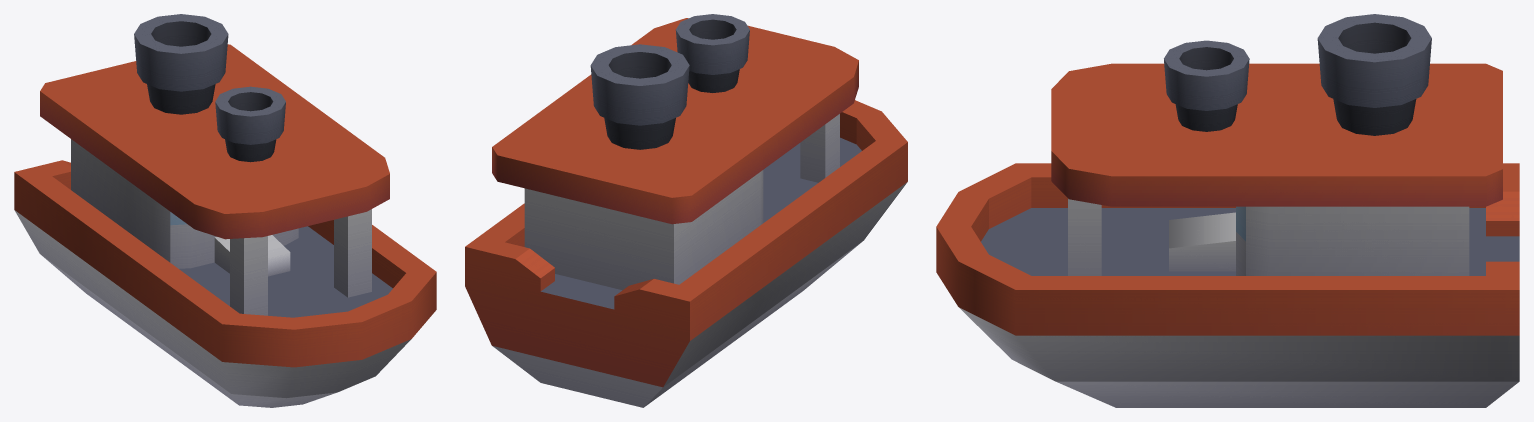
The model's file is boat_tug_a.glb.
The picture shows the model from 3 angles, left to right: view 1: azimuth 30°, elevation 25°; view 2: azimuth 150°, elevation 25°; view 3: azimuth 270°, elevation 25°; orthographic projection. The views are drawn at different scales.
Visible parts, largest first — view 1: boat-tug-a; view 2: boat-tug-a; view 3: boat-tug-a.
Boxes of the visible parts, bbox=[...] form: boat-tug-a: bbox=[14, 14, 436, 407]; boat-tug-a: bbox=[465, 14, 907, 407]; boat-tug-a: bbox=[936, 14, 1519, 407].
Size of the model in its own units: 1.78 by 2.24 by 3.47.
Materials: 1 (1 with a texture image).
